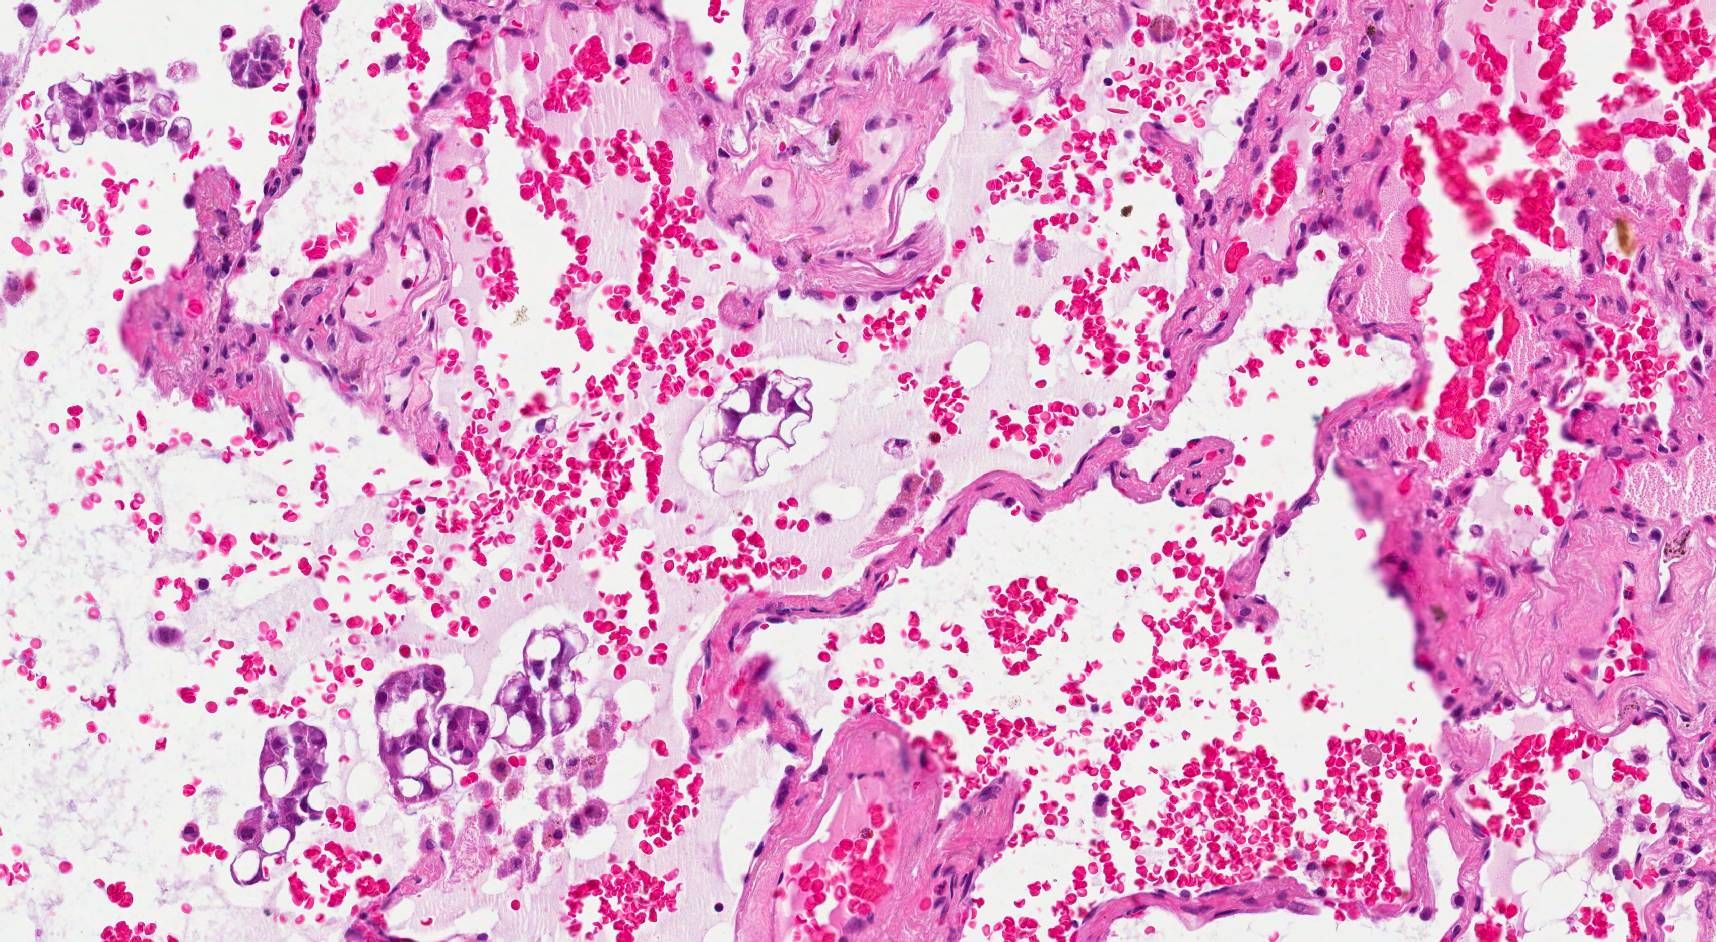stas: (372, 657, 491, 821), (229, 721, 335, 889), (695, 367, 823, 499), (486, 625, 595, 750), (40, 69, 203, 150), (219, 23, 300, 99)
